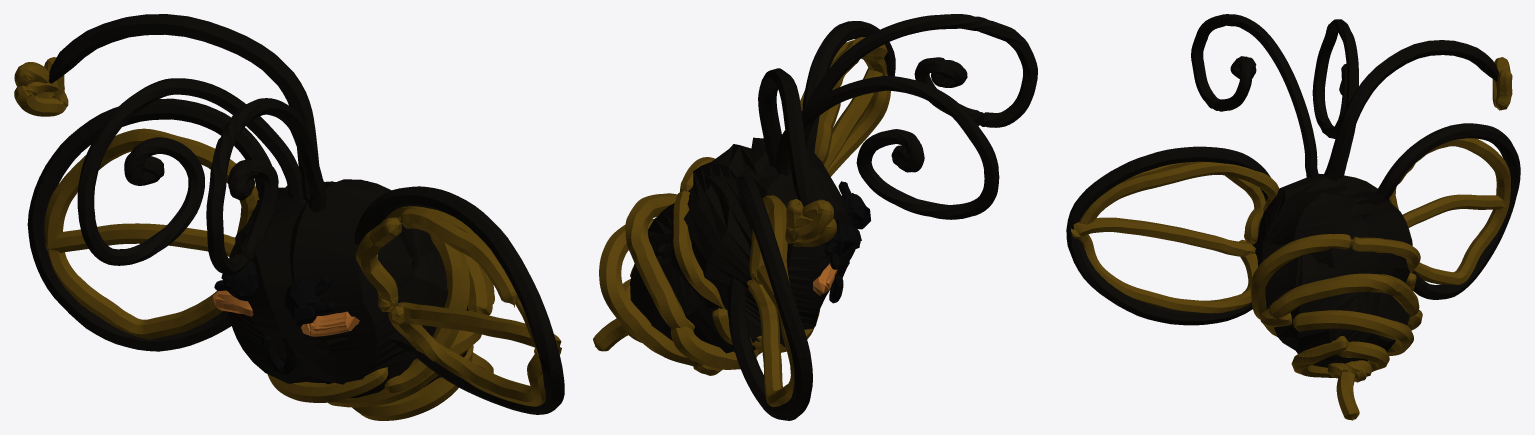
Rendered from bee.fbx.
The picture shows the model from 3 angles, left to right: view 1: azimuth 30°, elevation 25°; view 2: azimuth 150°, elevation 25°; view 3: azimuth 270°, elevation 25°; orthographic projection. The views are drawn at different scales.
Visible parts, largest first — view 1: Paint; view 2: Paint; view 3: Paint.
Part boxes in pixels (bbox=[...]): Paint: bbox=[14, 14, 564, 420]; Paint: bbox=[593, 14, 1037, 420]; Paint: bbox=[1066, 14, 1520, 420].
Size of the model in its own units: 0.5303 by 0.4686 by 0.6642.
